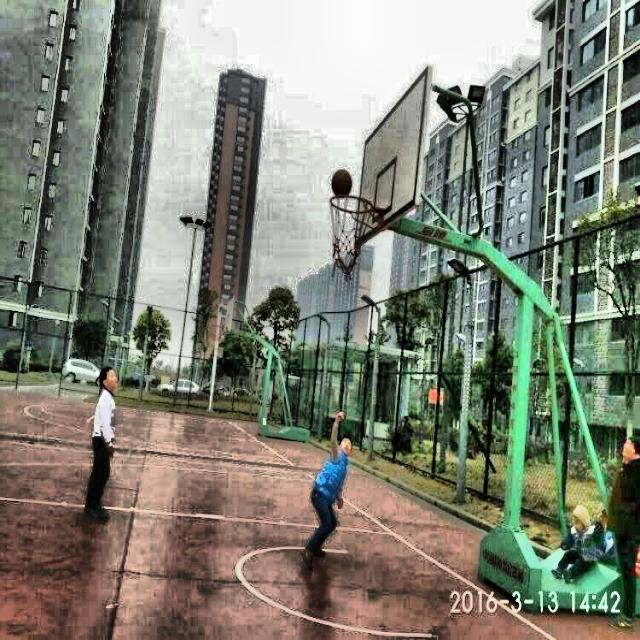rim: (326, 196, 375, 274)
